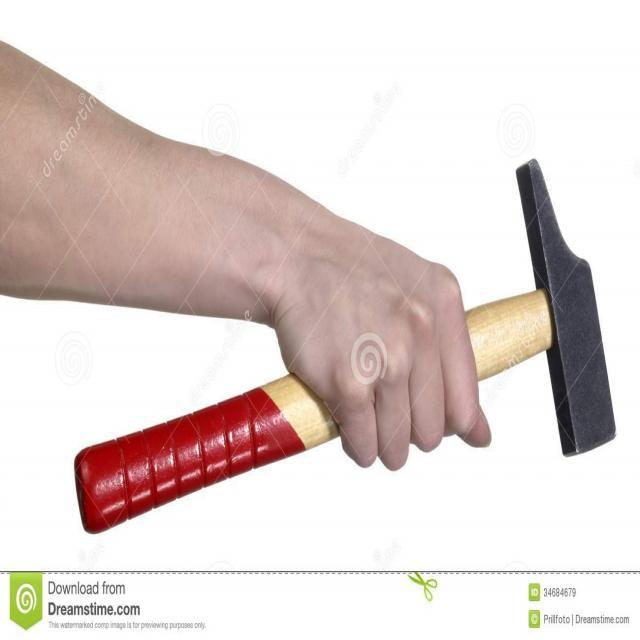hammer: (72, 150, 618, 538)
